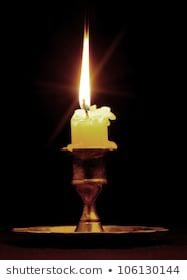fire: (75, 25, 93, 109)
